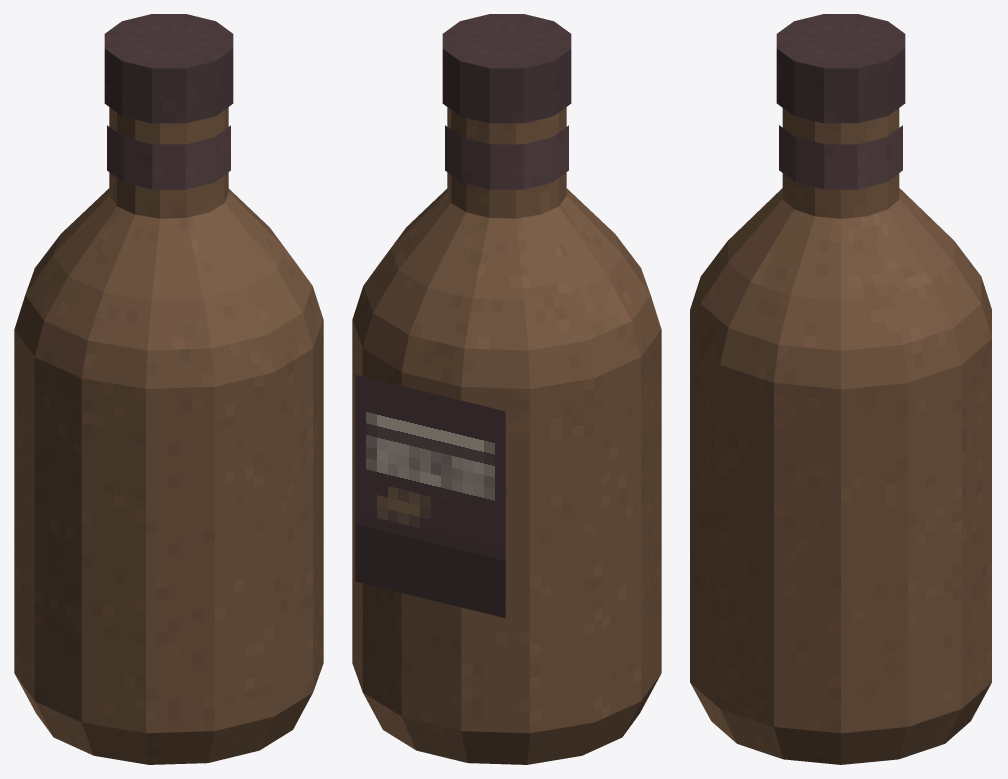
The model's file is imperial_stout.glb.
The picture shows the model from 3 angles, left to right: view 1: azimuth 30°, elevation 25°; view 2: azimuth 150°, elevation 25°; view 3: azimuth 270°, elevation 25°; orthographic projection.
Visible parts, largest first — view 1: block_bottle silhouette, block_bottle closure, block_neck band; view 2: block_bottle silhouette, block_drink label, block_bottle closure, block_neck band; view 3: block_bottle silhouette, block_bottle closure, block_neck band.
Boxes of the visible parts, x1,y1,x2,y2 form: block_bottle silhouette: (14, 107, 323, 764); block_bottle closure: (104, 14, 233, 123); block_neck band: (107, 125, 230, 189); block_bottle silhouette: (352, 107, 661, 764); block_drink label: (355, 375, 505, 617); block_bottle closure: (442, 14, 571, 123); block_neck band: (445, 125, 568, 189); block_bottle silhouette: (690, 108, 991, 764); block_bottle closure: (776, 14, 905, 123); block_neck band: (779, 125, 902, 189).
Bounding box in the file's own units: 0.0688 × 0.1638 × 0.0675.
Materials: 1 (1 with a texture image).
